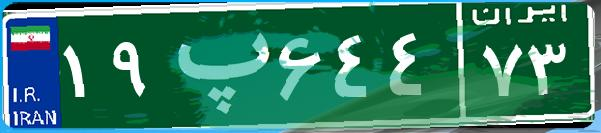1: (57, 26, 110, 107)
3: (525, 38, 570, 115)
4: (385, 28, 445, 110), (330, 28, 385, 110)
6: (273, 28, 330, 110)
7: (475, 38, 525, 113)
9: (110, 28, 158, 105)
پ: (158, 15, 273, 115)
